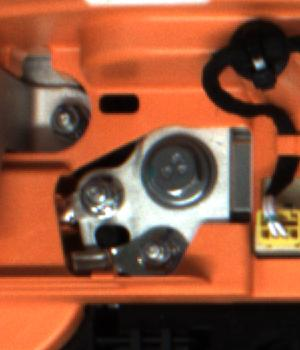nut_b: (137, 127, 222, 212)
